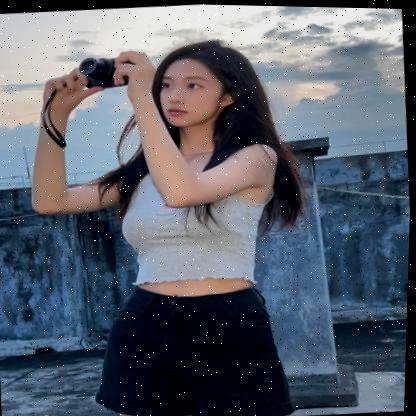person: (129, 20, 275, 160)
